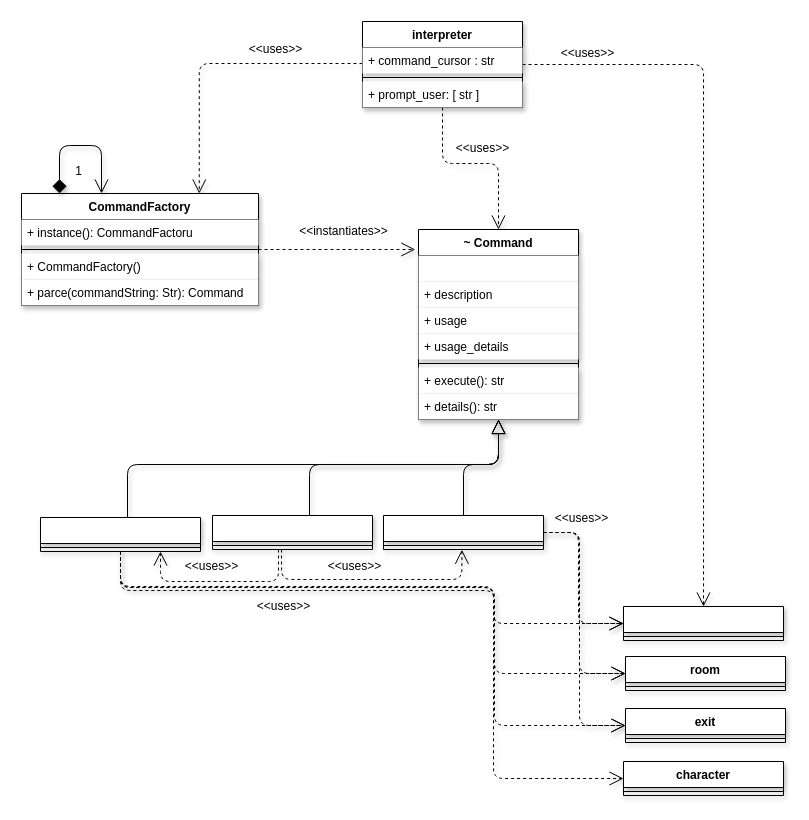
This 809x820 diagram has some shape labels left out. Each missing label, with the centre of its shape:
+ command_name: point (499, 269)
gameState: point (704, 625)
helpCommand: point (293, 533)
lookCommand: point (121, 535)
moveCommand: point (464, 533)
